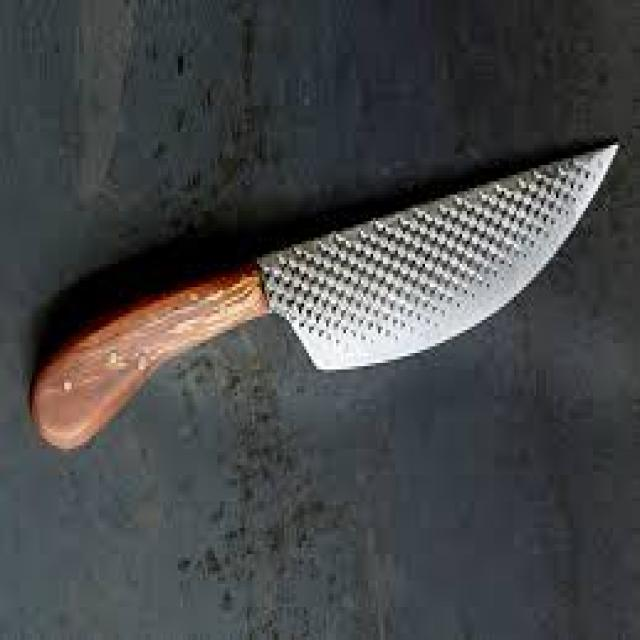knives: (36, 88, 628, 491)
